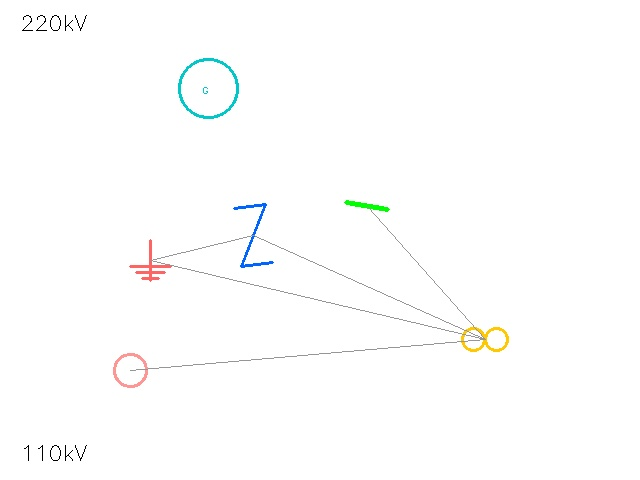busbar: (341, 180, 393, 232)
circuit_breaker: (221, 203, 285, 267)
generator: (179, 59, 237, 117)
ground: (130, 240, 170, 280)
reactor: (98, 338, 162, 402)
transformer_2w: (456, 310, 514, 368)
